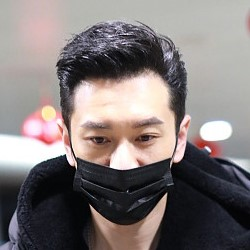mask: (69, 143, 173, 226)
